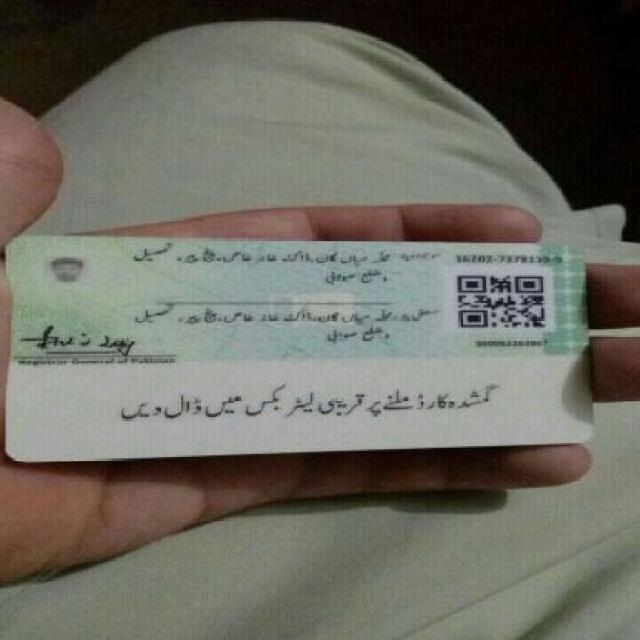Back: (3, 229, 614, 451)
